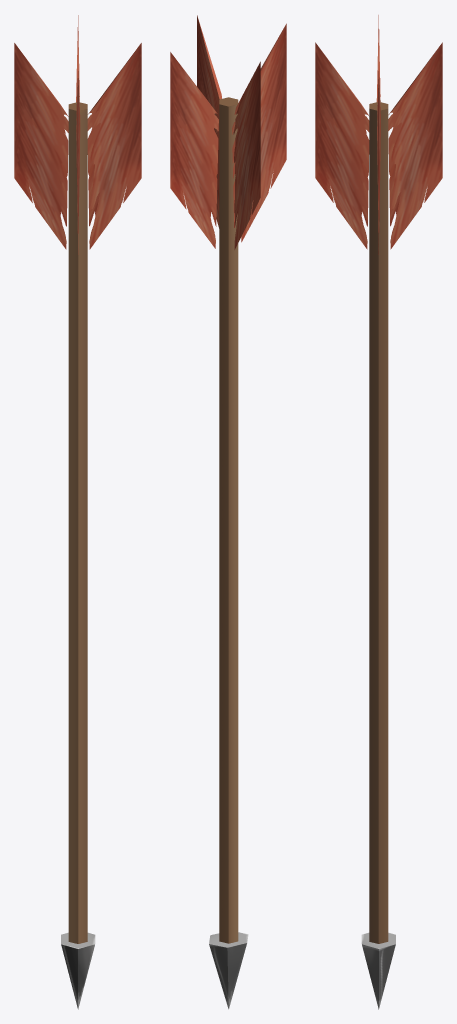
Rendered from Arrow.fbx.
The picture shows the model from 3 angles, left to right: view 1: azimuth 90°, elevation 25°; view 2: azimuth 210°, elevation 25°; view 3: azimuth 270°, elevation 25°; orthographic projection.
Parts seen in each view (by area): view 1: Arrow; view 2: Arrow; view 3: Arrow.
Part boxes in pixels (<box>): Arrow: <box>14,15,141,1009</box>; Arrow: <box>170,15,286,1009</box>; Arrow: <box>315,15,442,1009</box>.
Size of the model in its own units: 0.1435 by 1.15 by 0.1368.
1 material, 1 textured.
